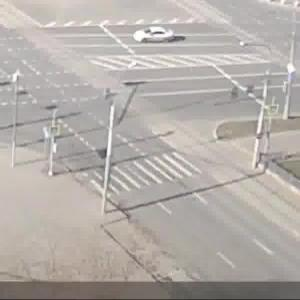car: (129, 25, 180, 49)
